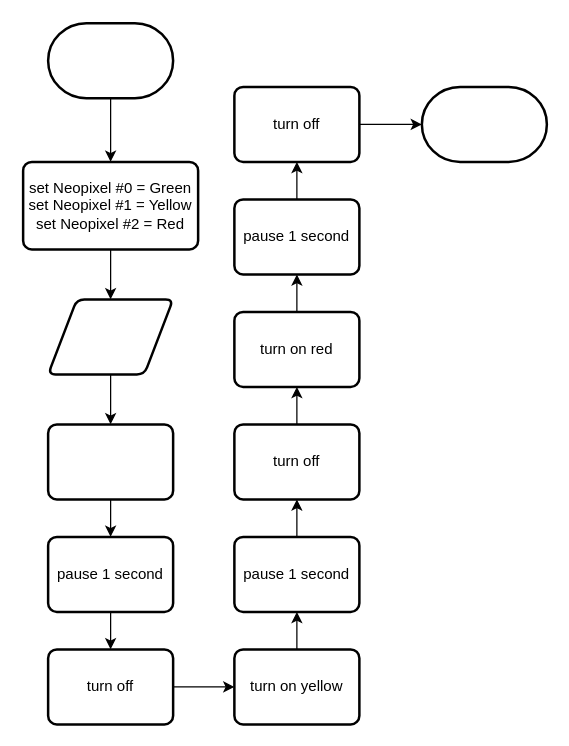
The diagram is 569 pixels wide and 746 high, and some of its shapes have lost their labels. Each missing label, with the centre of its shape:
Press "A": (110,336)
Start: (110,60)
Stop: (484,123)
turn on green: (110,461)
